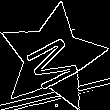M_NE: (19, 26, 85, 90)
